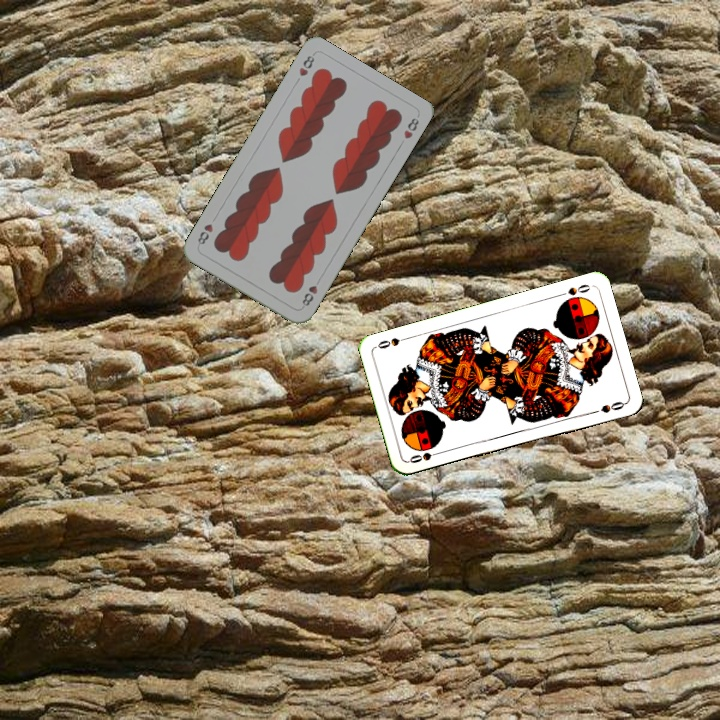H8: (295, 50, 317, 79), (298, 281, 320, 309)
SO: (405, 447, 445, 466), (554, 280, 593, 299)
